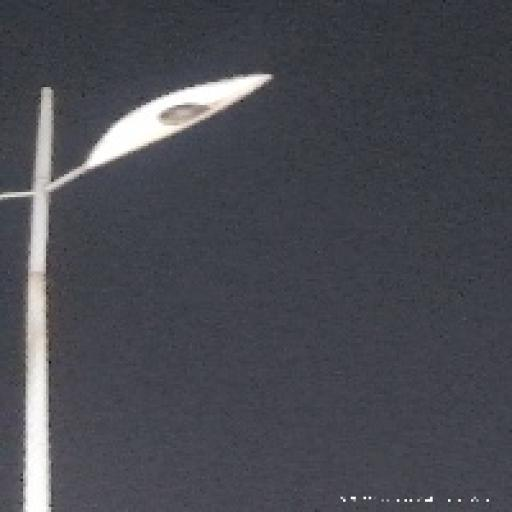Not Working: (67, 60, 289, 200)
